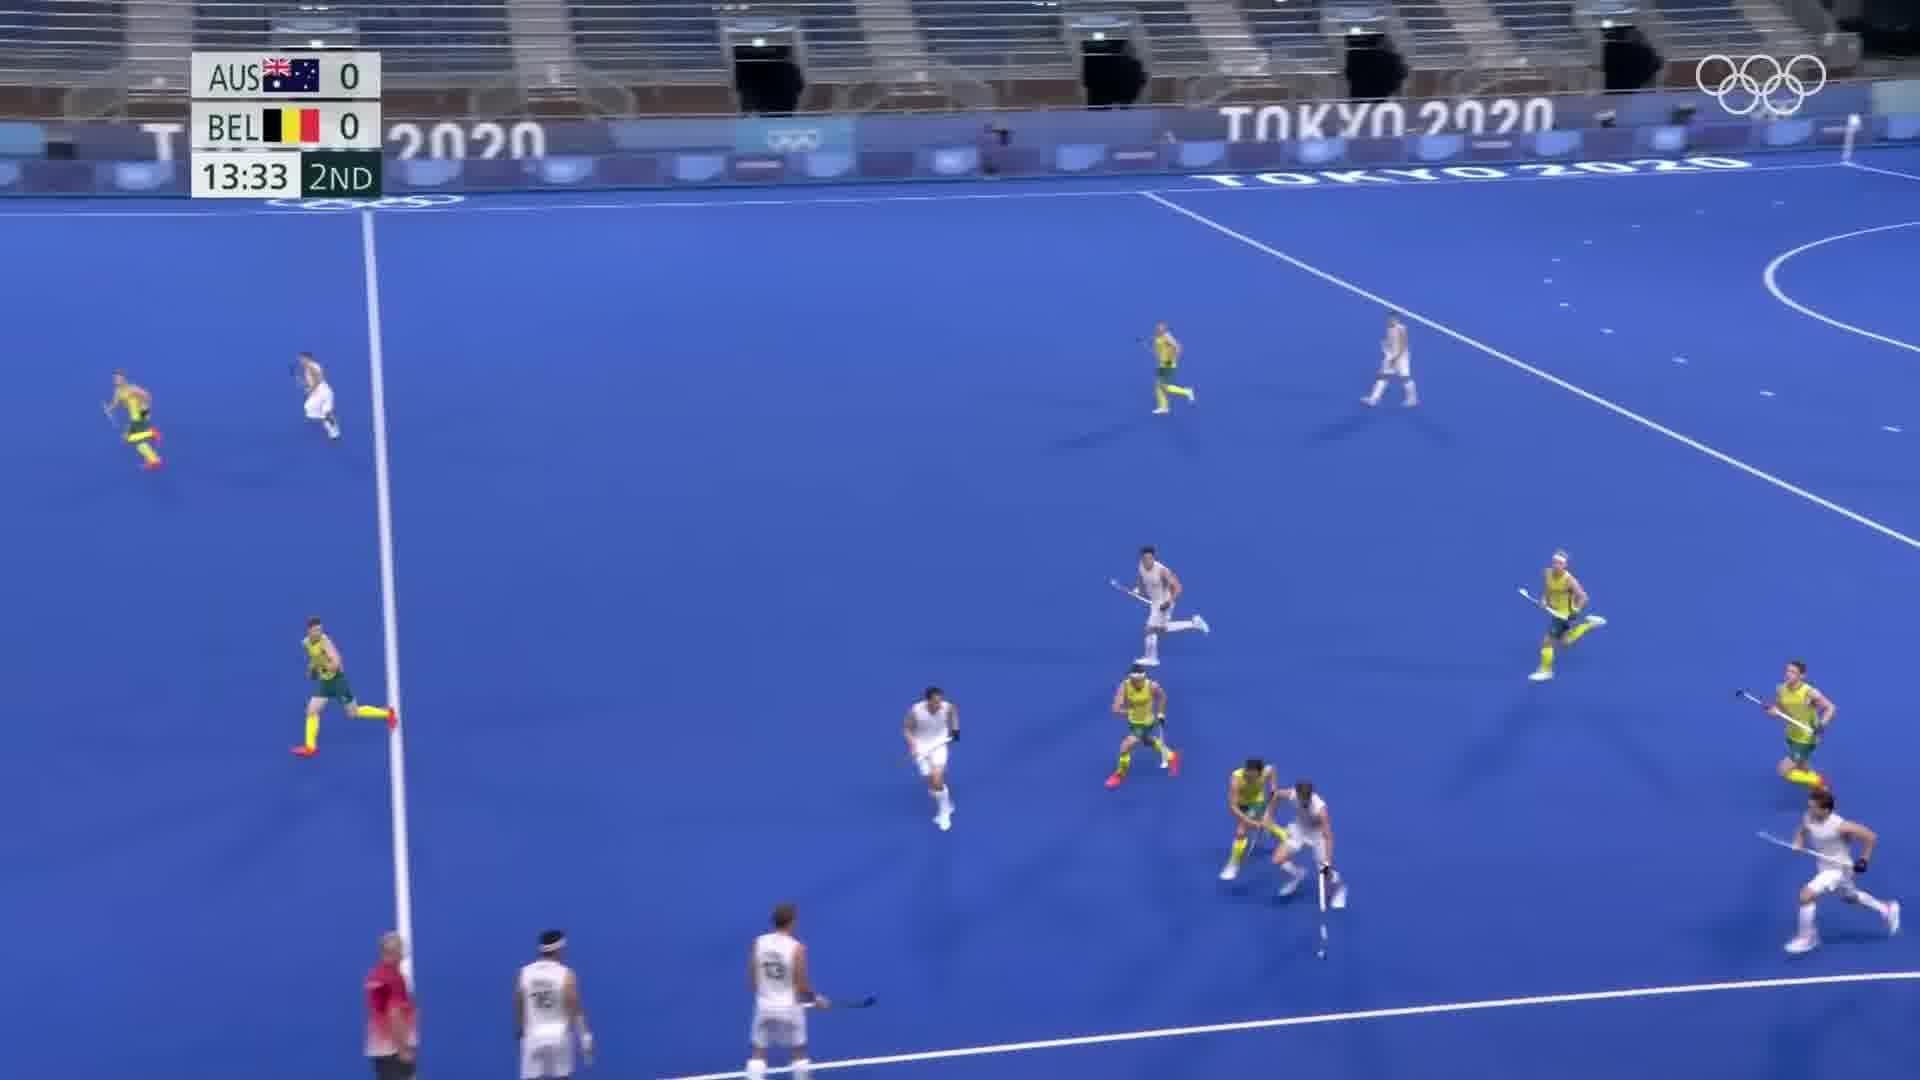ball: (1309, 945, 1333, 975)
